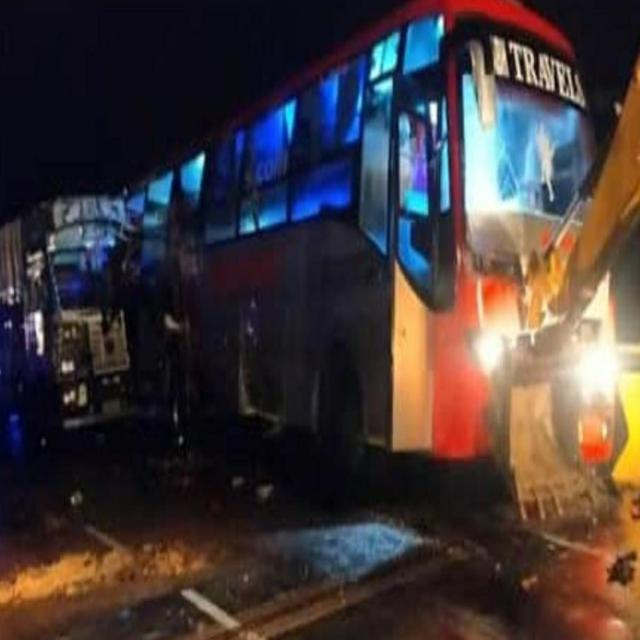bus: (127, 2, 606, 470)
truck: (476, 73, 640, 539), (0, 196, 133, 453)
